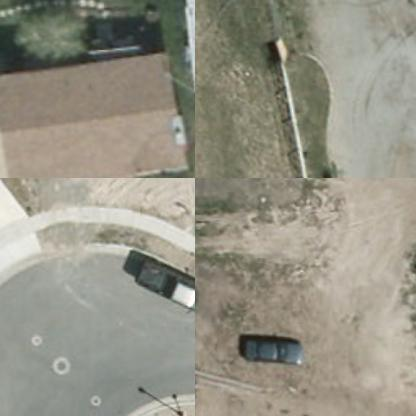camping car: (176, 0, 194, 102)
car: (237, 336, 299, 372)
pickup: (127, 256, 194, 331)
